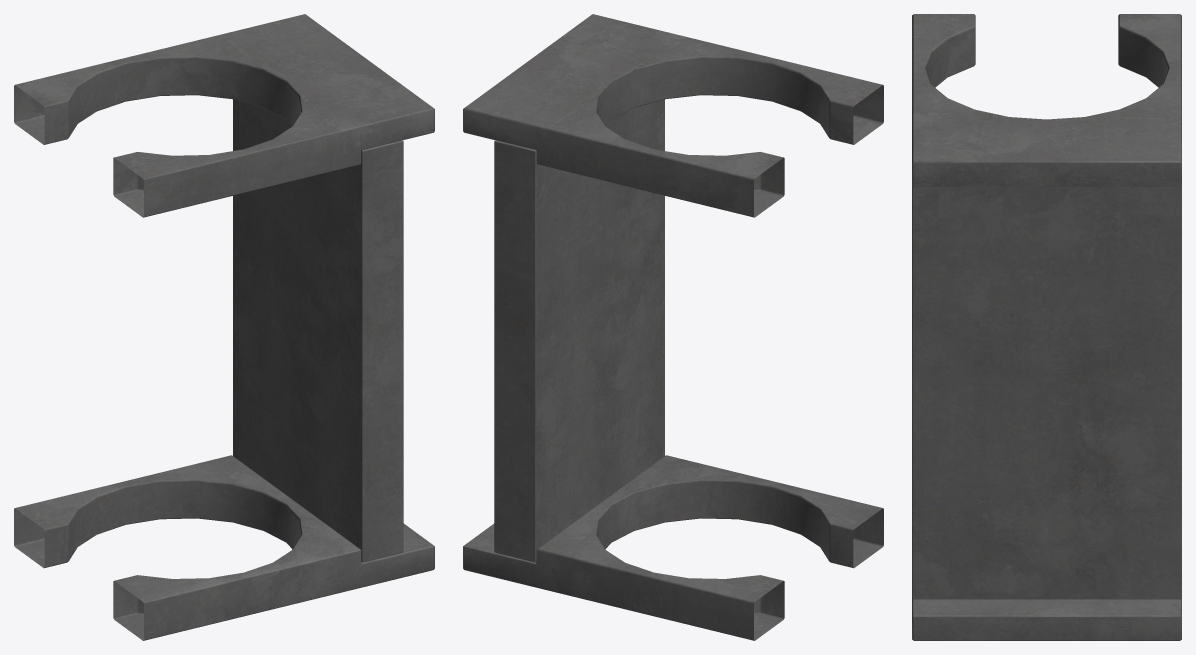
The model's file is cP_Bench05.dae.
3 views of the same model, side by side, from view 1: azimuth 30°, elevation 25°; view 2: azimuth 150°, elevation 25°; view 3: azimuth 270°, elevation 25° (orthographic). The views are drawn at different scales.
Visible parts, largest first — view 1: cP_Bench05.001; view 2: cP_Bench05.001; view 3: cP_Bench05.001.
Boxes of the visible parts, box(x1,y1,x2,y2) form: cP_Bench05.001: box(14, 14, 434, 640); cP_Bench05.001: box(463, 14, 883, 640); cP_Bench05.001: box(912, 14, 1181, 640).
Bounding box in the file's own units: 0.7271 × 0.5606 × 1.1.
